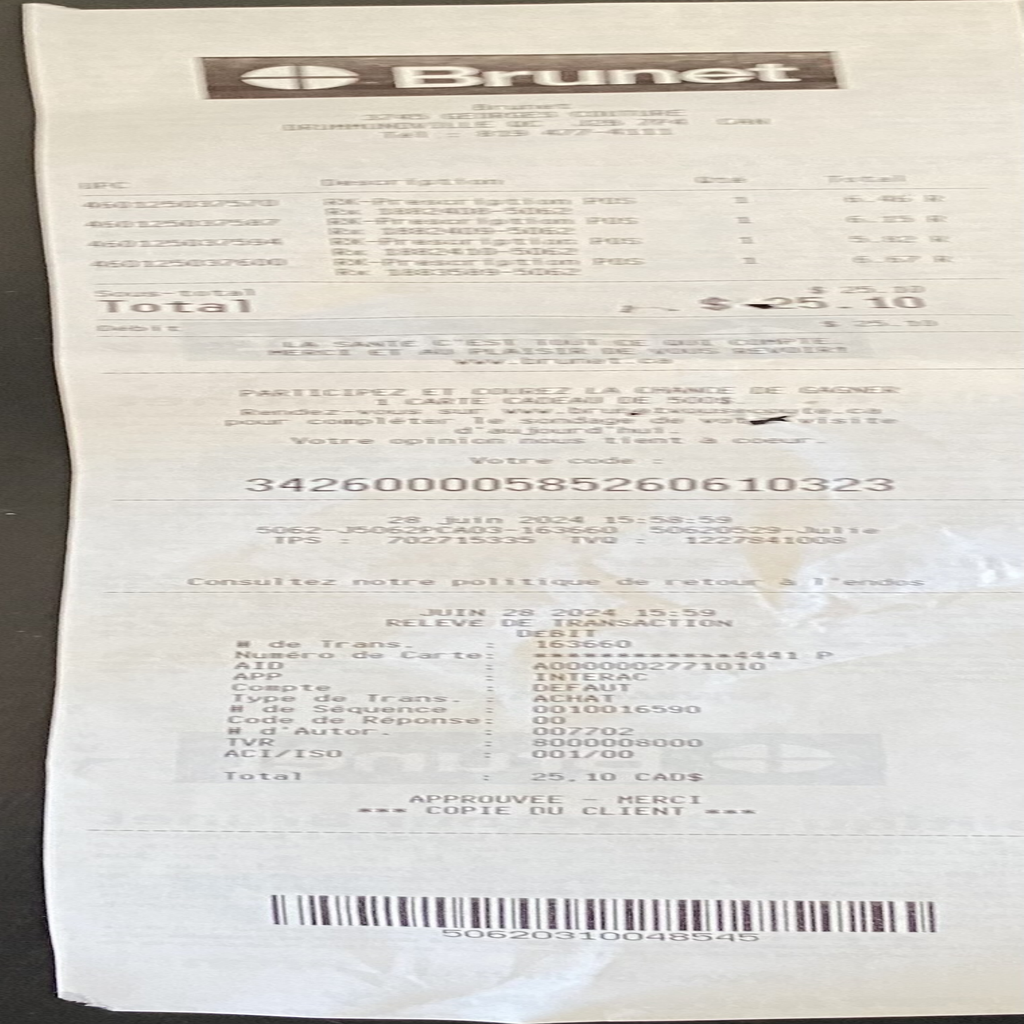recipt: (17, 0, 1024, 1018)
